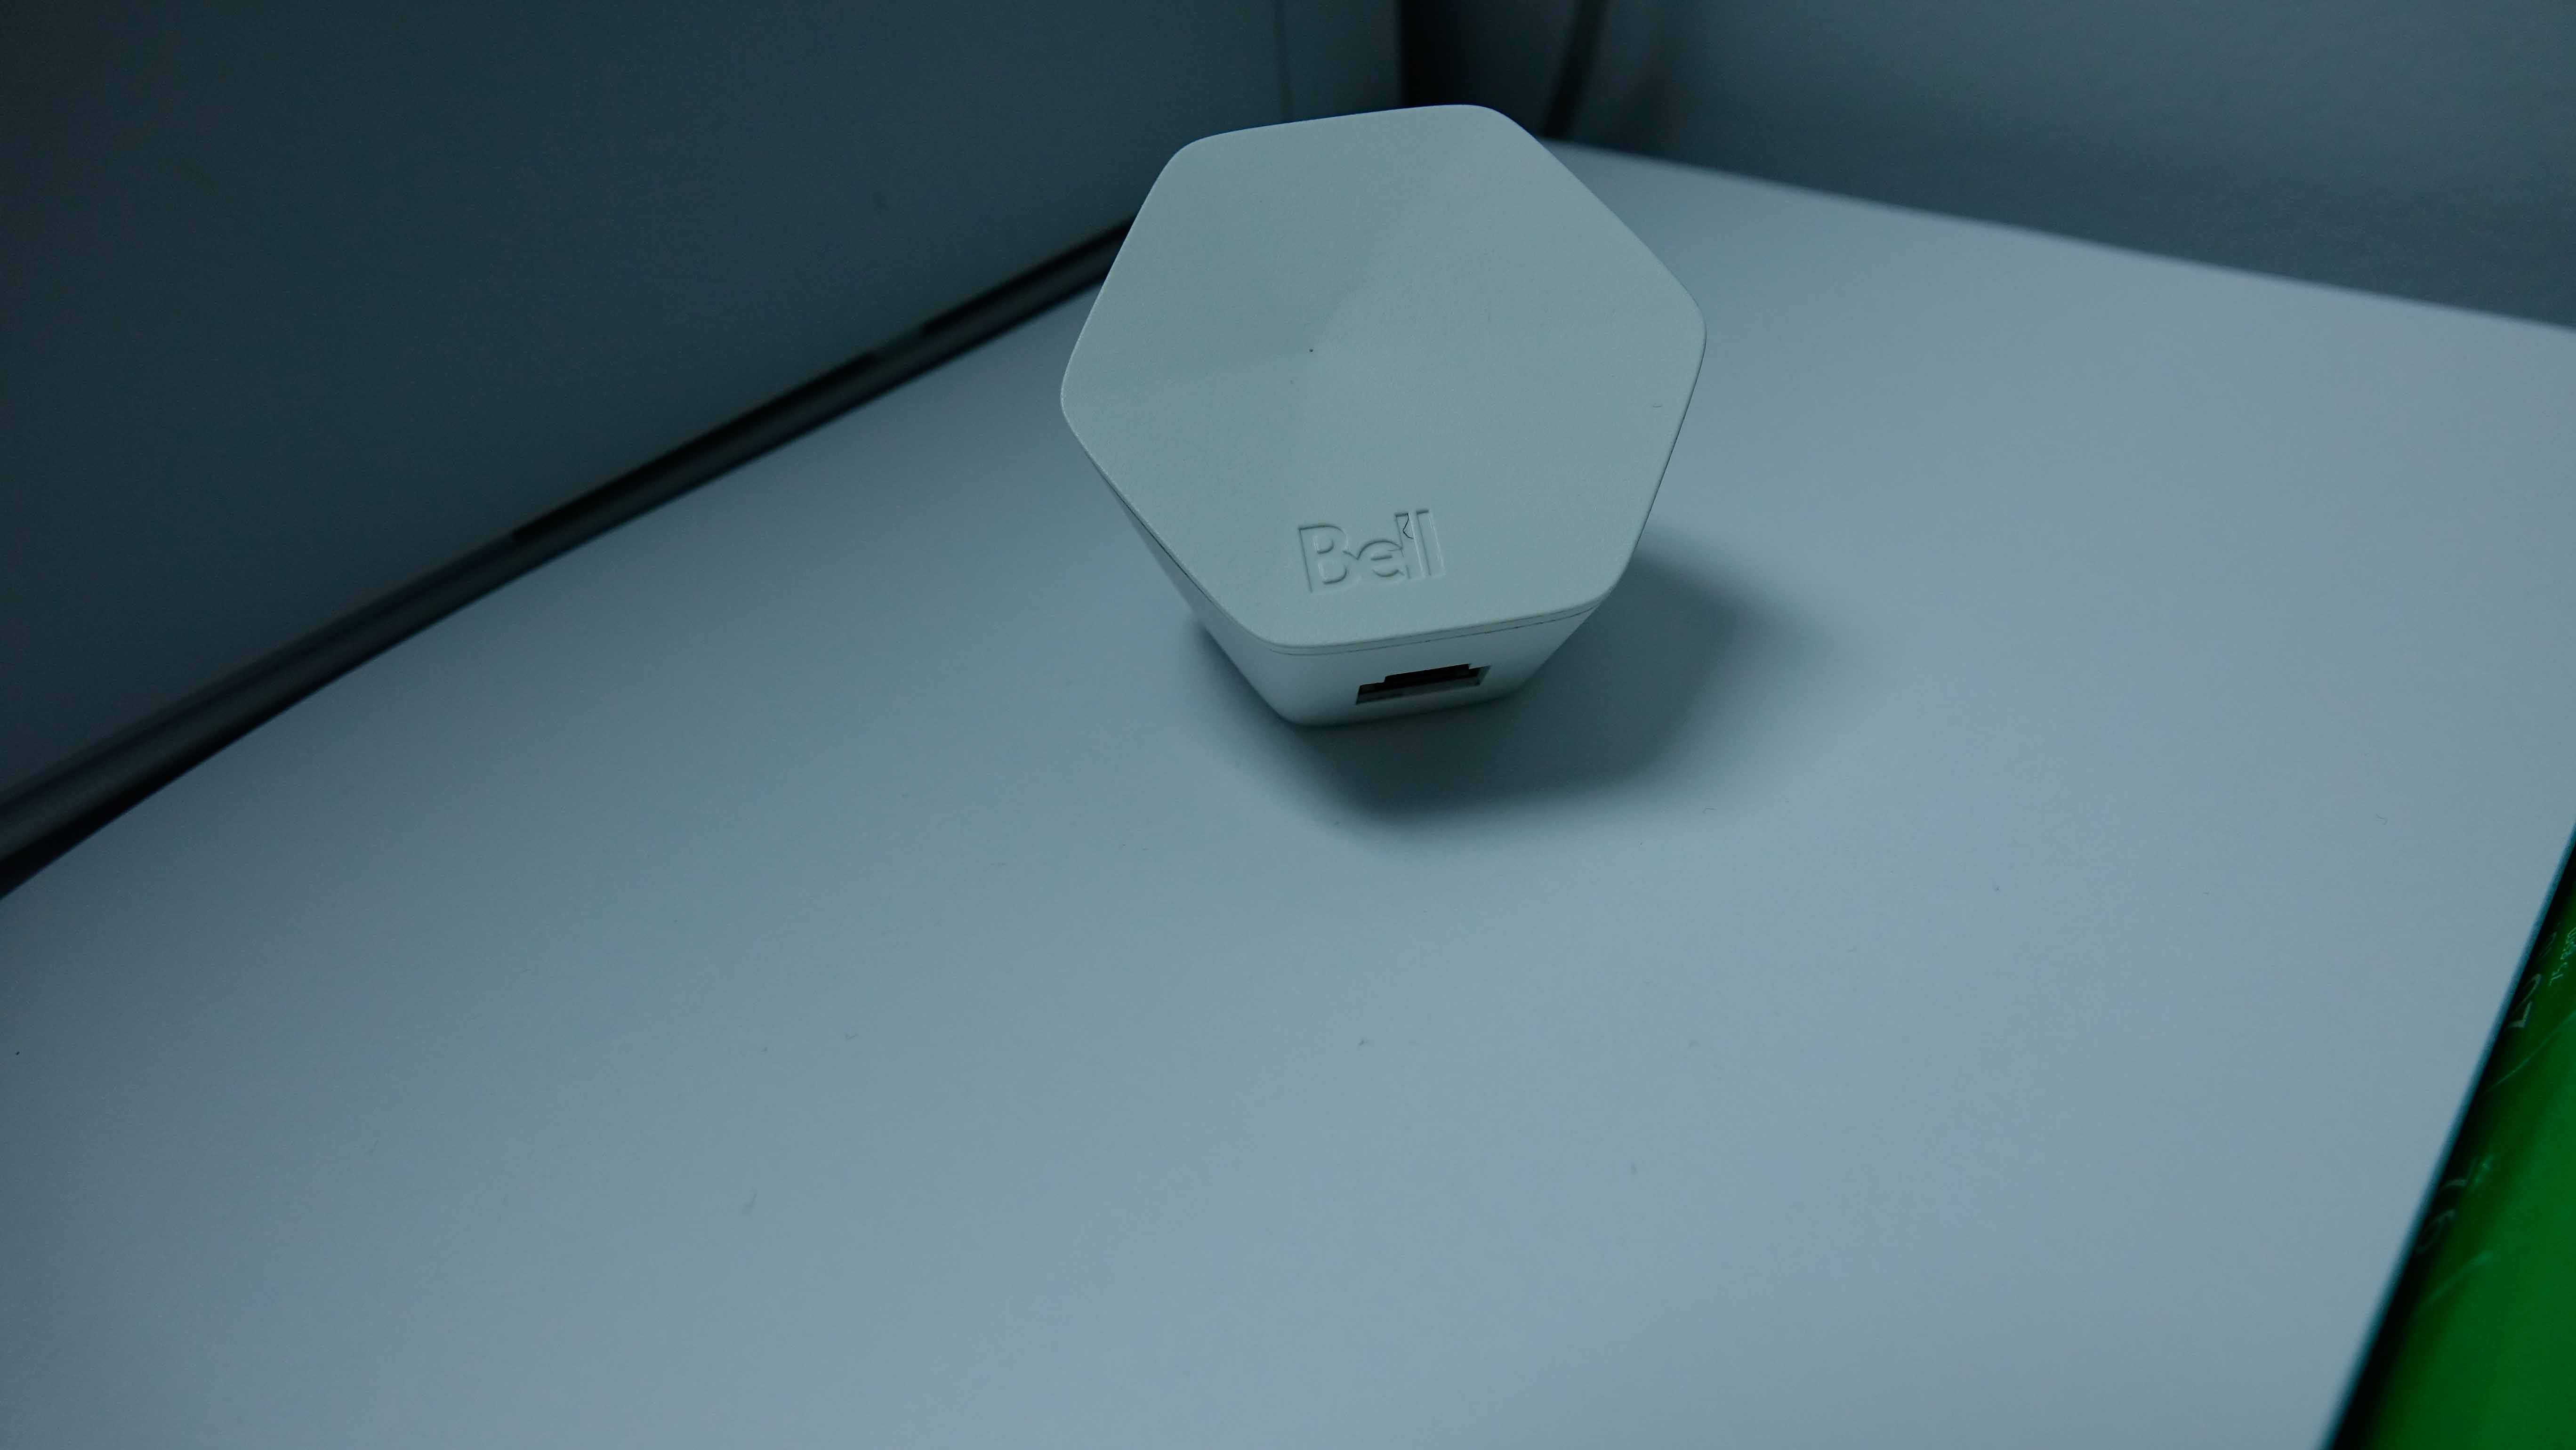pod: (1044, 88, 1725, 748)
